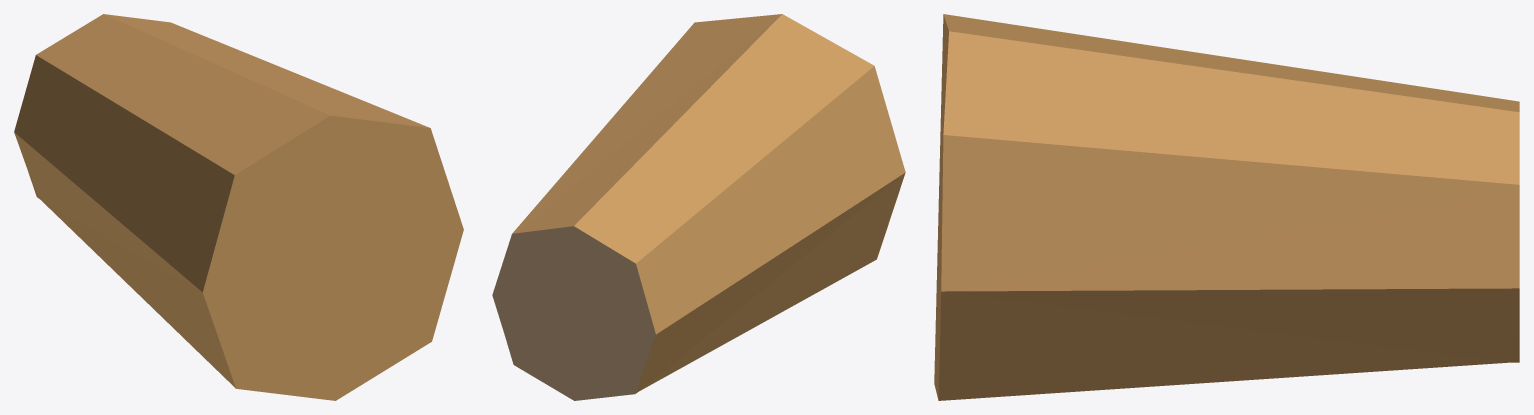
The model's file is stump03a.fbx.
3 views of the same model, side by side, from view 1: azimuth 30°, elevation 25°; view 2: azimuth 150°, elevation 25°; view 3: azimuth 270°, elevation 25° (orthographic). The views are drawn at different scales.
Parts seen in each view (by area): view 1: Tree; view 2: Tree; view 3: Tree.
Part boxes in pixels (x1,y1,x2,y2): Tree: [14, 14, 463, 400]; Tree: [492, 14, 905, 400]; Tree: [934, 14, 1519, 400].
Bounding box in the file's own units: 0.3922 × 0.403 × 0.6059.
